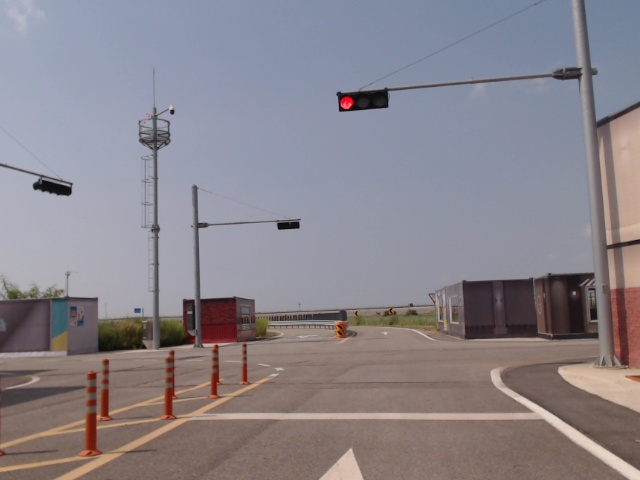red_3: (337, 88, 388, 111)
